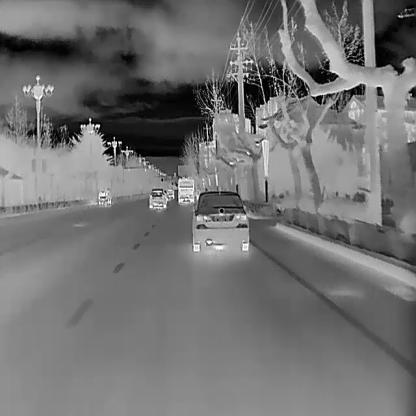car: (192, 190, 248, 252), (178, 178, 194, 203), (149, 188, 168, 208), (98, 189, 111, 205), (167, 188, 174, 200)
